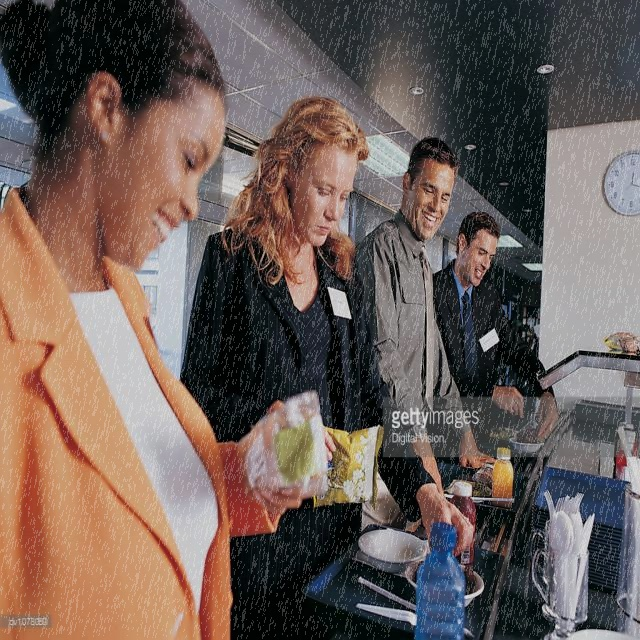pessoa: (0, 0, 339, 639), (176, 94, 477, 638), (348, 133, 498, 498), (432, 211, 560, 441)
